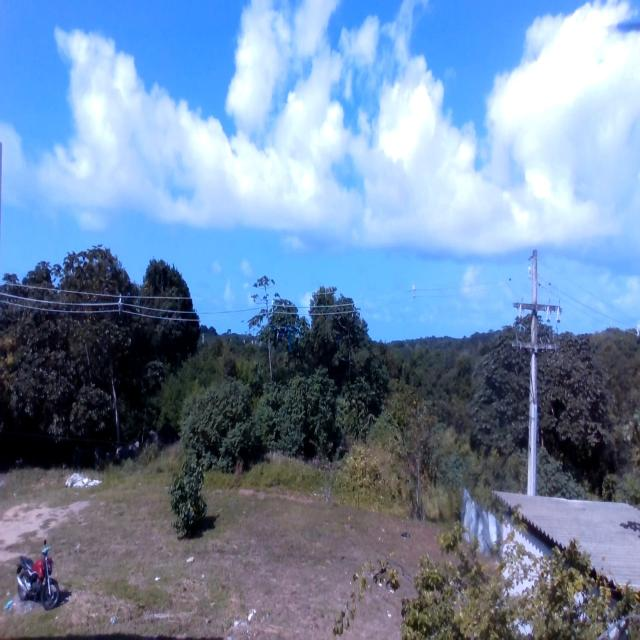-uav-: (274, 318, 303, 363)
